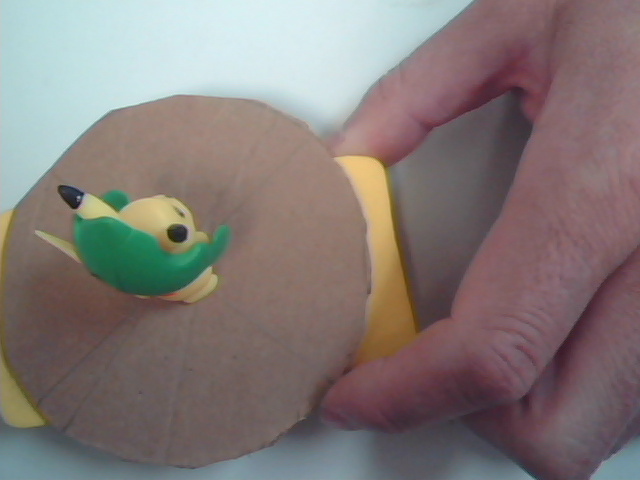pikachu: (37, 150, 290, 403)
